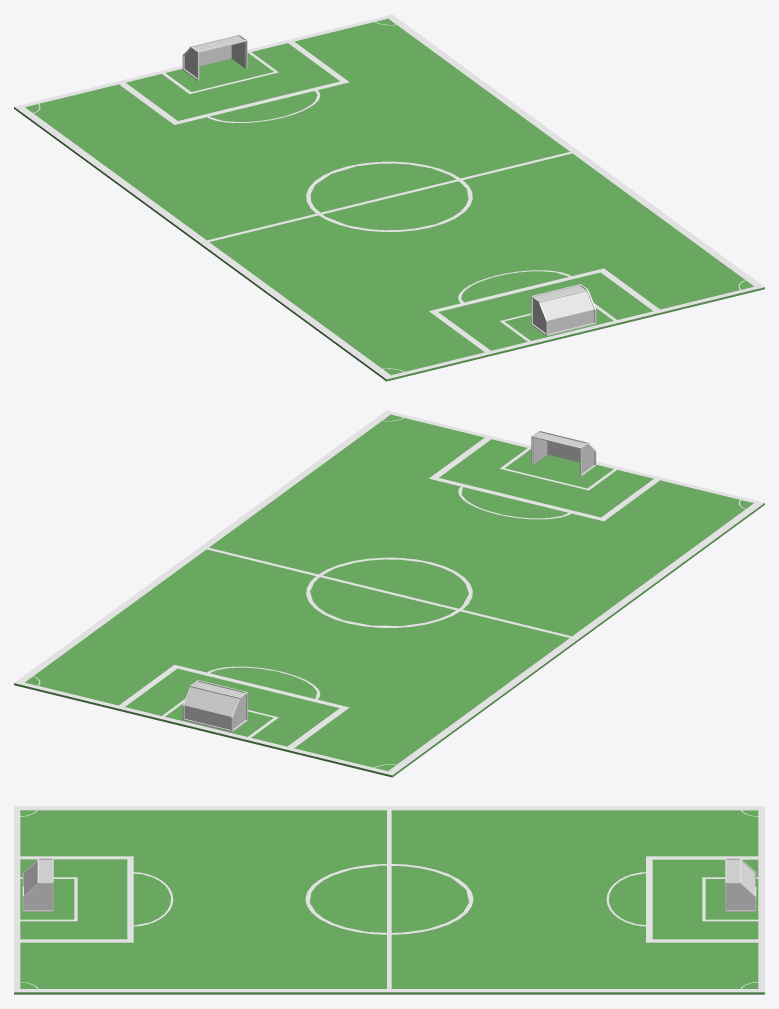
Rendered from soccer_field.glb.
The picture shows the model from 3 angles, top to bottom: view 1: azimuth 30°, elevation 25°; view 2: azimuth 150°, elevation 25°; view 3: azimuth 270°, elevation 25°; orthographic projection.
Visible parts, largest first — view 1: Soccer Field, Soccer Goal.001, Soccer Goal; view 2: Soccer Field, Soccer Goal, Soccer Goal.001; view 3: Soccer Field, Soccer Goal, Soccer Goal.001.
Part boxes in pixels (x1=…): Soccer Field: x1=14, y1=14, x2=764, y2=381; Soccer Goal.001: x1=531, y1=284, x2=596, y2=335; Soccer Goal: x1=182, y1=34, x2=247, y2=80; Soccer Field: x1=14, y1=410, x2=764, y2=777; Soccer Goal: x1=182, y1=680, x2=247, y2=731; Soccer Goal.001: x1=531, y1=430, x2=596, y2=476; Soccer Field: x1=14, y1=806, x2=764, y2=994; Soccer Goal: x1=725, y1=858, x2=756, y2=911; Soccer Goal.001: x1=22, y1=858, x2=53, y2=911.
Size of the model in its own units: 28.36 by 2.21 by 48.38.
